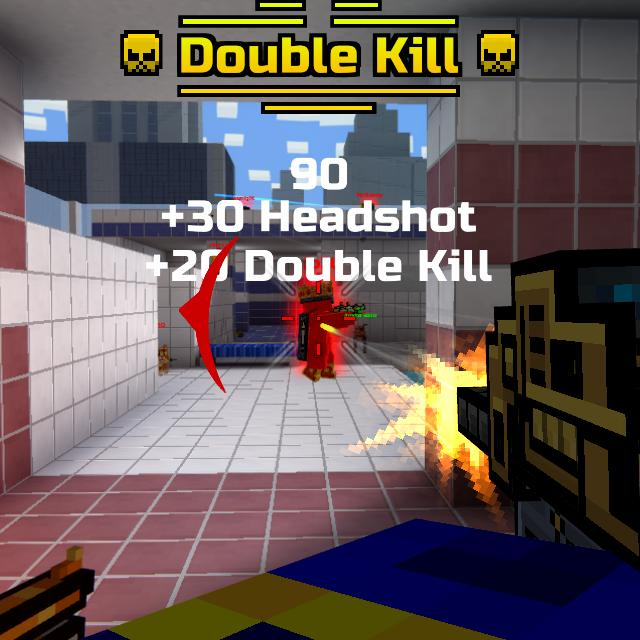Enemy: (298, 280, 355, 382)
